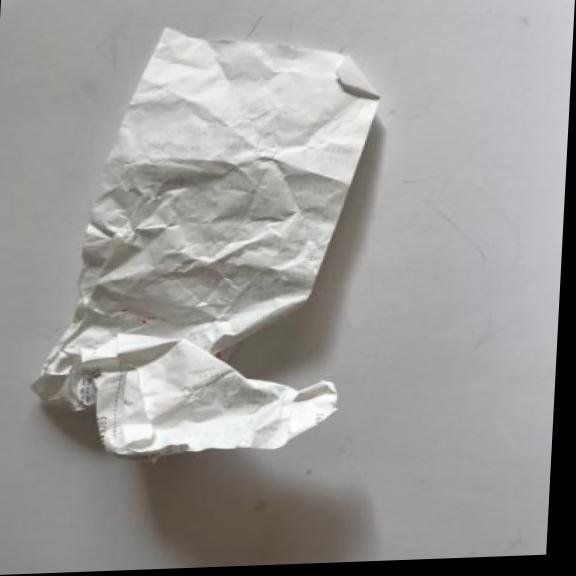Kertas: (16, 15, 402, 488)
